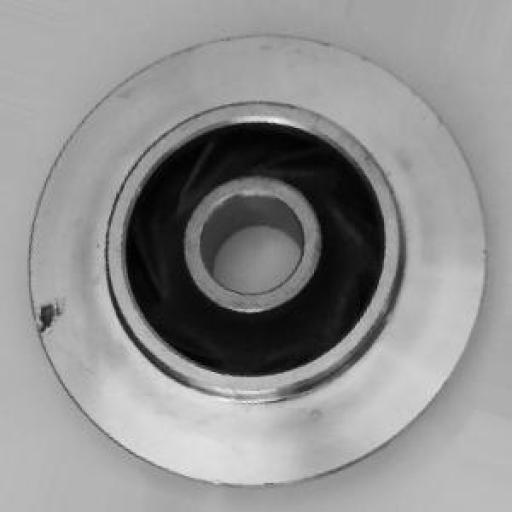defect: (10, 258, 83, 378)
